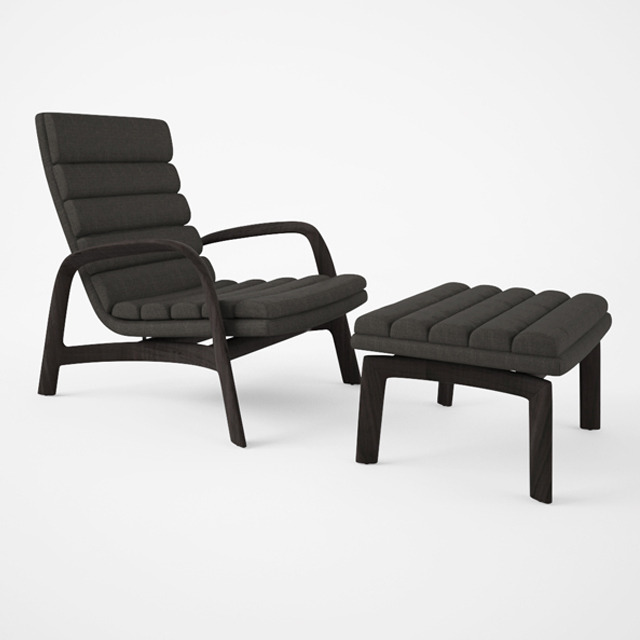chairs: (28, 106, 370, 450), (334, 275, 614, 506)
